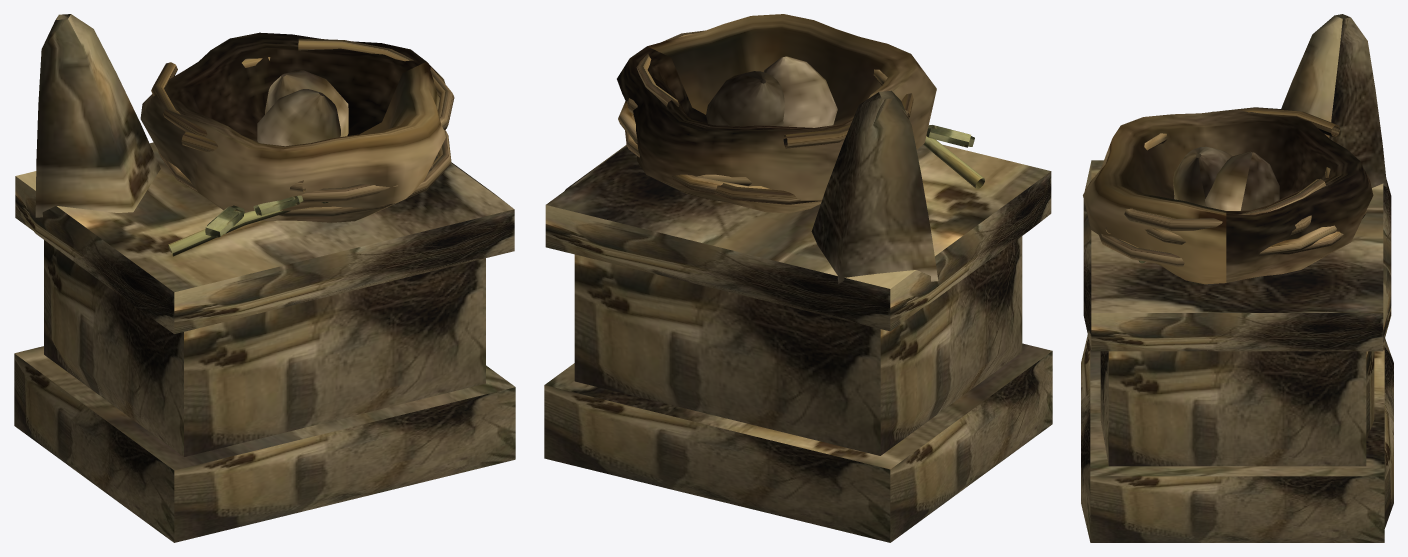
File: sparrows-nest-altar.glb
The picture shows the model from 3 angles, left to right: view 1: azimuth 30°, elevation 25°; view 2: azimuth 150°, elevation 25°; view 3: azimuth 270°, elevation 25°; orthographic projection. The views are drawn at different scales.
Parts seen in each view (by area): view 1: HeroRelicMonument; view 2: HeroRelicMonument; view 3: HeroRelicMonument.
Part boxes in pixels (<box>): HeroRelicMonument: <box>14,14,515,542</box>; HeroRelicMonument: <box>544,14,1052,542</box>; HeroRelicMonument: <box>1081,14,1393,542</box>.
Bounding box in the file's own units: 1.39 × 1.53 × 1.12.
Materials: 1 (1 with a texture image).
